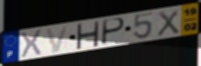5: (133, 11, 154, 41)
H: (75, 20, 101, 50)
P: (100, 17, 127, 47)
V: (45, 24, 71, 54)
X: (156, 8, 181, 38), (21, 28, 44, 59)
